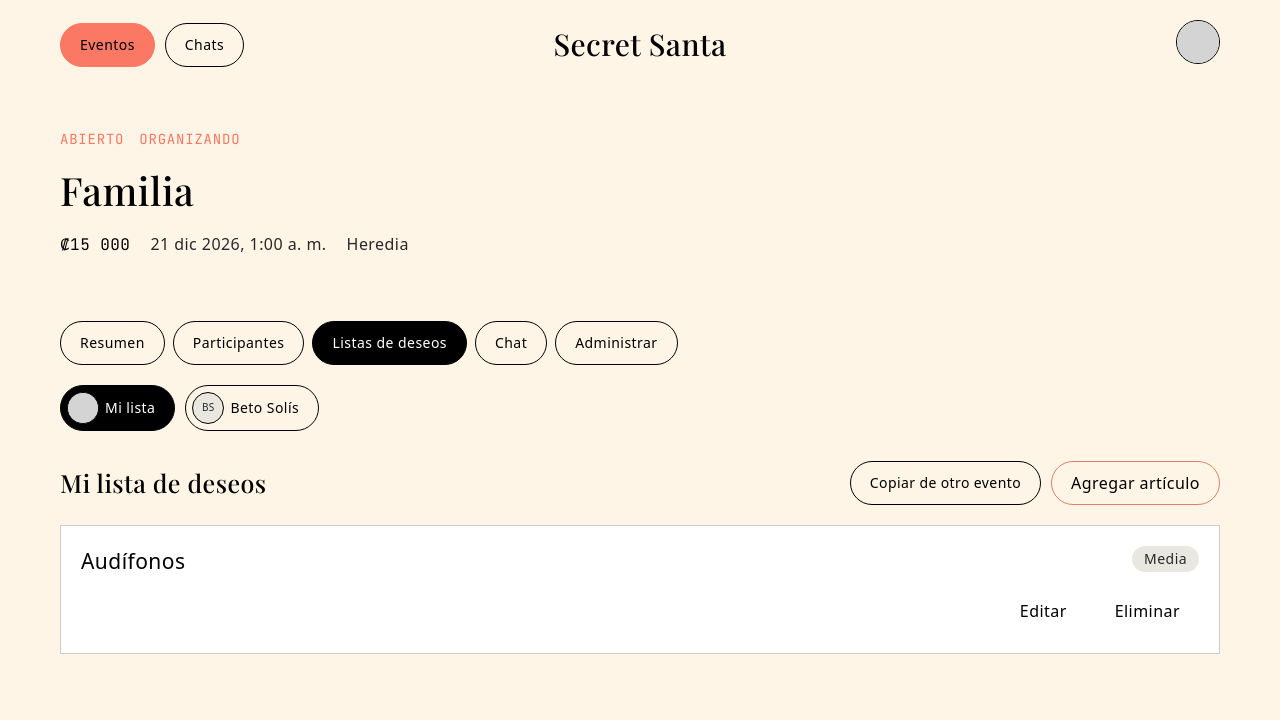
Test: Copy from another event › says so when there is nothing to copy
The width and height of the screenshot is (1280, 720).
Expected: the element named "Lista de quién" is shown, top-left (60, 384), bottom-right (319, 430)
Click the button "Copiar de otro evento".
click(945, 482)  # box top-left (850, 460), bottom-right (1041, 504)
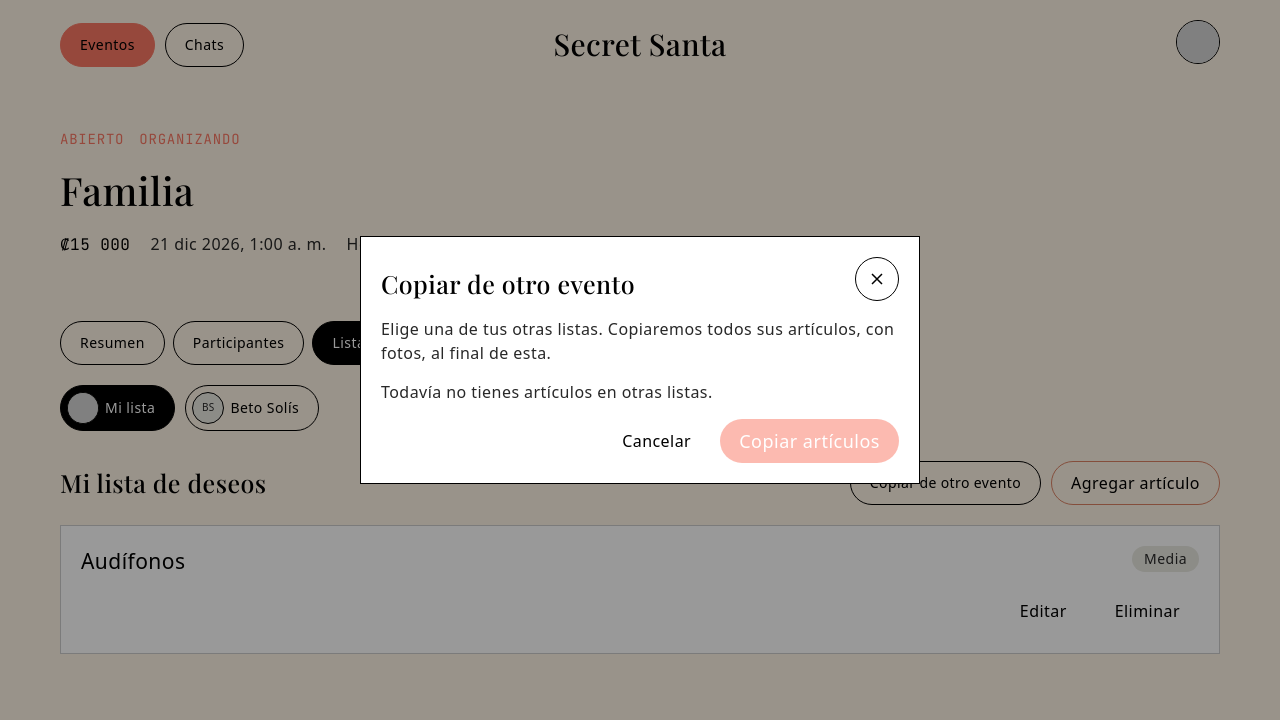
Expected: the text "Todavía no tienes artículos en otras listas." is shown, top-left (381, 381), bottom-right (713, 403)
Expected: the button "Copiar artículos" is disabled, top-left (720, 419), bottom-right (899, 463)
